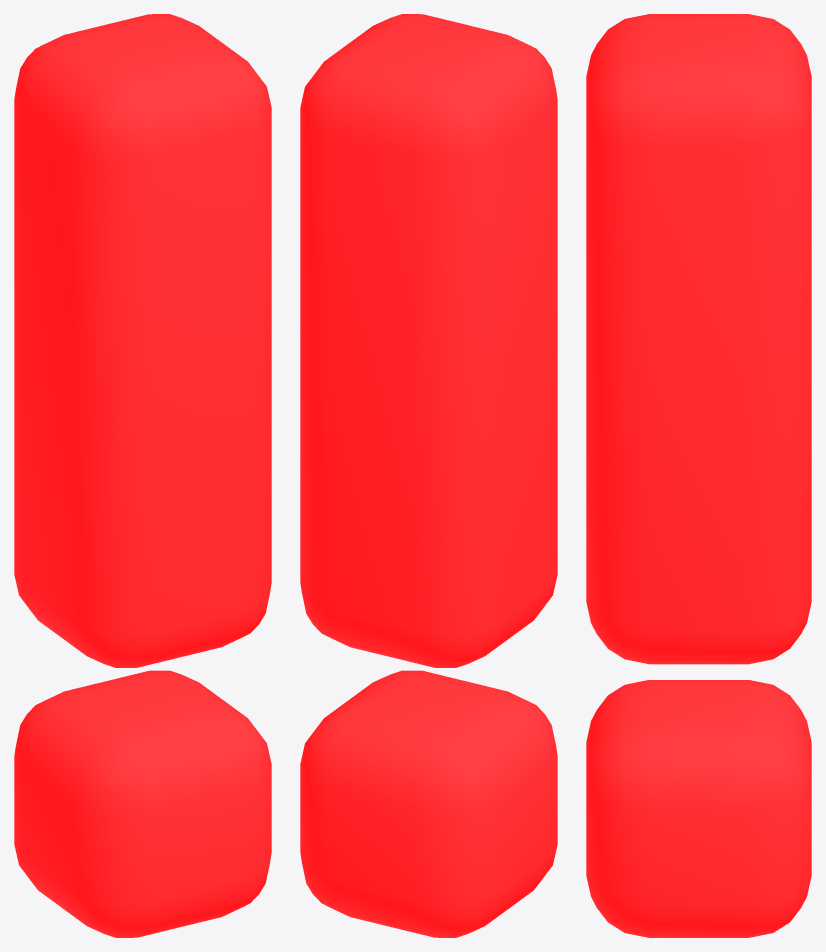
File: AttentionSign.glb
The picture shows the model from 3 angles, left to right: view 1: azimuth 30°, elevation 25°; view 2: azimuth 150°, elevation 25°; view 3: azimuth 270°, elevation 25°; orthographic projection.
Parts seen in each view (by area): view 1: Cube.001; view 2: Cube.001; view 3: Cube.001.
Part boxes in pixels (box(x1,y1,x2,y2)): Cube.001: box(14, 14, 271, 937); Cube.001: box(300, 14, 557, 937); Cube.001: box(586, 14, 811, 937).
Size of the model in its own units: 2 by 8.51 by 2.
